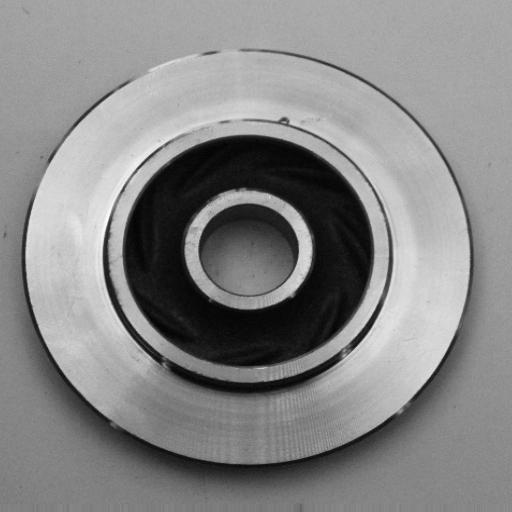crack: (267, 109, 308, 132)
scratch: (177, 114, 255, 141)
unpolished_casting: (24, 46, 475, 469)
